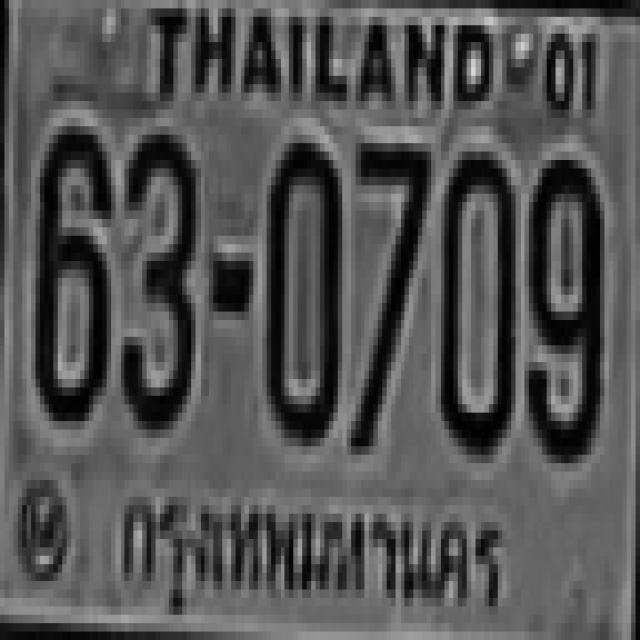0: (262, 135, 338, 438), (436, 143, 511, 446)
3: (118, 126, 193, 421)
6: (31, 118, 107, 413)
7: (346, 135, 426, 446)
9: (524, 152, 600, 454)
Bangkok: (107, 477, 522, 637)
